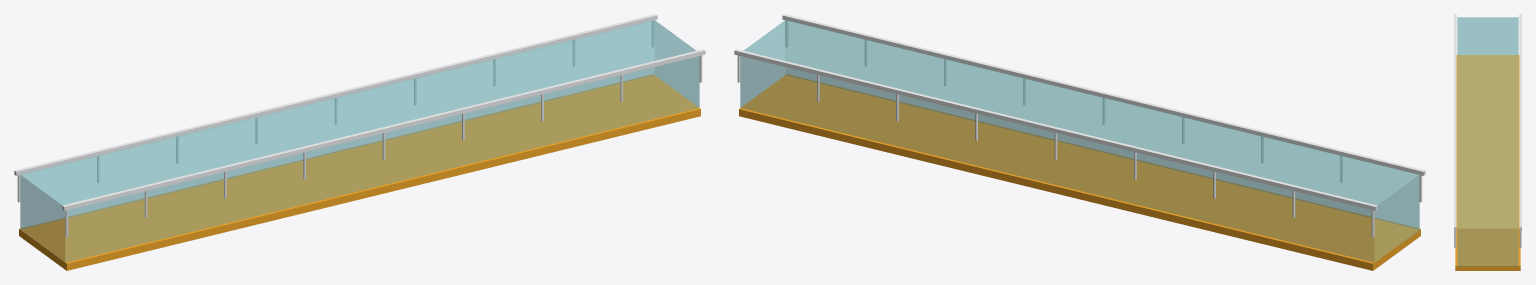
File: glass-bridge.glb
The picture shows the model from 3 angles, left to right: view 1: azimuth 30°, elevation 25°; view 2: azimuth 150°, elevation 25°; view 3: azimuth 270°, elevation 25°; orthographic projection. The views are drawn at different scales.
Parts seen in each view (by area): view 1: glass-bridge; view 2: glass-bridge; view 3: glass-bridge.
Boxes of the visible parts, x1,y1,x2,y2 form: glass-bridge: [14, 14, 705, 270]; glass-bridge: [734, 14, 1425, 270]; glass-bridge: [1454, 14, 1521, 270].
Size of the model in its own units: 26.3 by 2.57 by 3.54.
